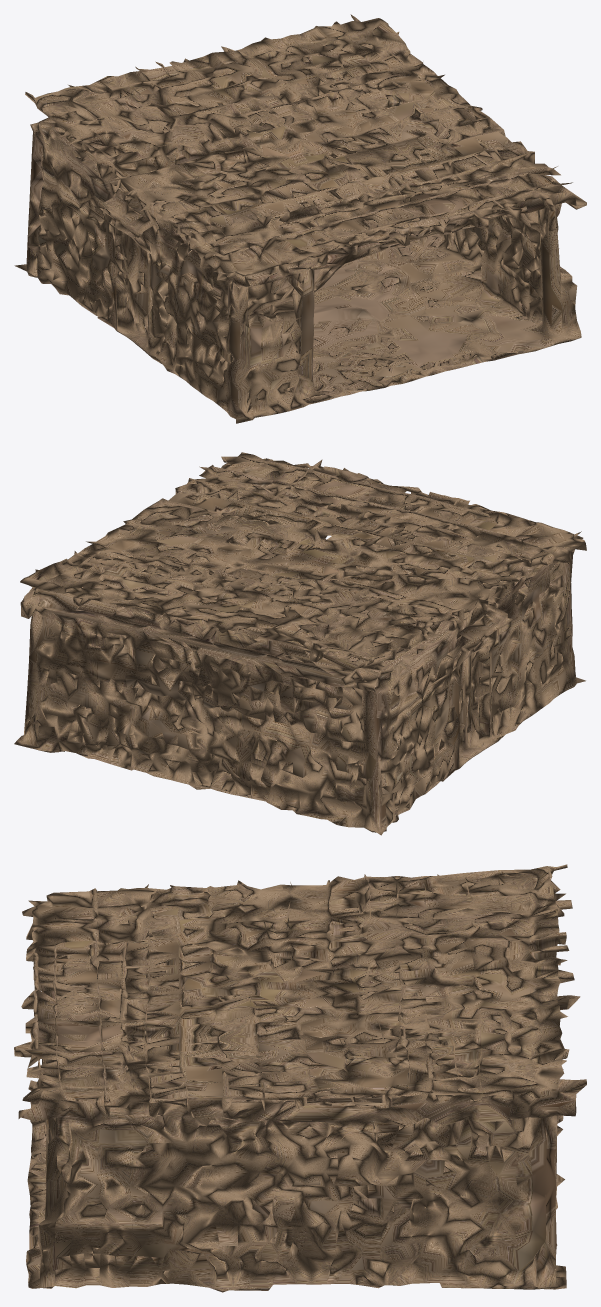
File: square-nativity-stall.glb
The picture shows the model from 3 angles, top to bottom: view 1: azimuth 30°, elevation 25°; view 2: azimuth 150°, elevation 25°; view 3: azimuth 270°, elevation 25°; orthographic projection. The views are drawn at different scales.
Parts seen in each view (by area): view 1: geometry_0; view 2: geometry_0; view 3: geometry_0.
Boxes of the visible parts, box(x1,y1,x2,y2) form: geometry_0: box(14, 14, 586, 423); geometry_0: box(14, 452, 586, 835); geometry_0: box(14, 864, 586, 1292).
Bounding box in the file's own units: 7.07 × 3.21 × 7.5.
Materials: 1 (1 with a texture image).
